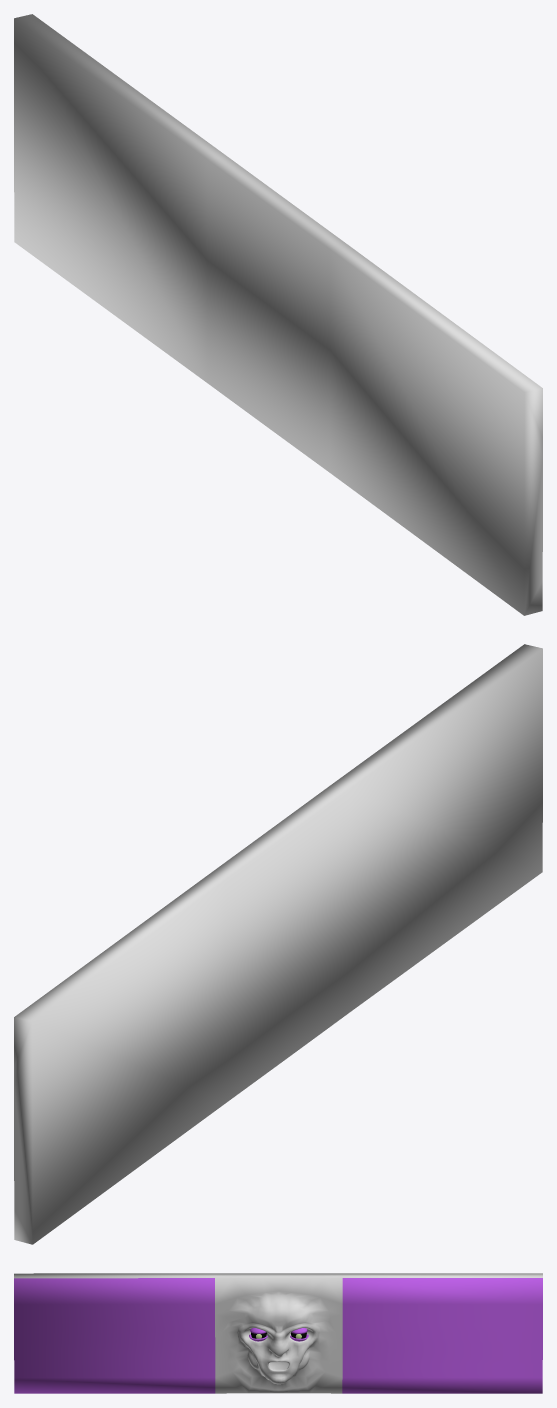
File: Wall guy.fbx
The picture shows the model from 3 angles, top to bottom: view 1: azimuth 30°, elevation 25°; view 2: azimuth 150°, elevation 25°; view 3: azimuth 270°, elevation 25°; orthographic projection. The views are drawn at different scales.
Visible parts, largest first — view 1: Eyes.002; view 2: Eyes.002; view 3: Eyes.002.
Part boxes in pixels (x1,y1,x2,y2): Eyes.002: [14, 14, 542, 615]; Eyes.002: [14, 644, 542, 1244]; Eyes.002: [14, 1273, 542, 1393].
Size of the model in its own units: 706 by 10836 by 2626.
